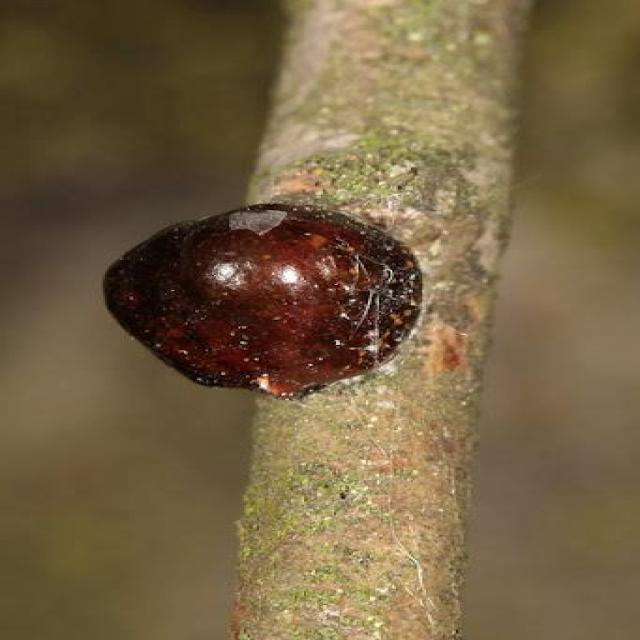Black Scale: (103, 201, 420, 400)
